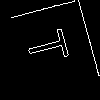T: (25, 25, 79, 66)
